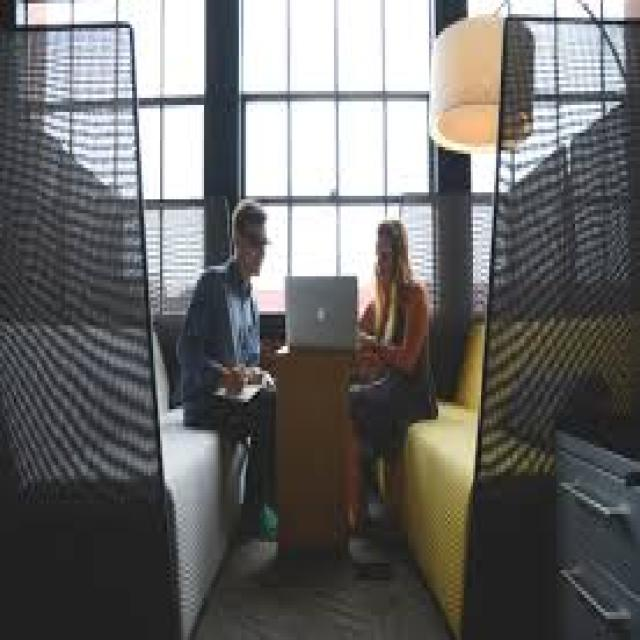nonfall: (181, 200, 296, 531), (345, 189, 442, 509)
